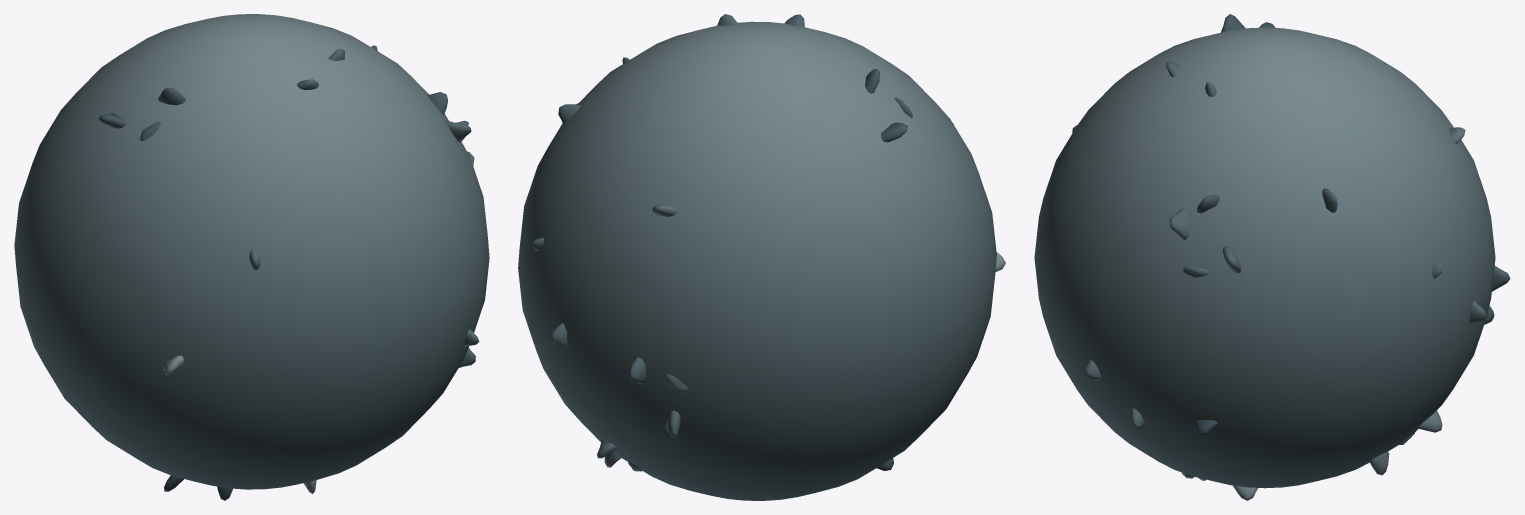
The model's file is Moon1.glb.
3 renders of one model, left to right at view 1: azimuth 30°, elevation 25°; view 2: azimuth 150°, elevation 25°; view 3: azimuth 270°, elevation 25°, orthographic. The views are drawn at different scales.
Visible parts, largest first — view 1: Moon1; view 2: Moon1; view 3: Moon1.
Boxes of the visible parts, box(x1,y1,x2,y2) form: Moon1: box(14, 14, 489, 500); Moon1: box(518, 14, 1005, 500); Moon1: box(1034, 14, 1510, 500).
Size of the model in its own units: 12.46 by 12.66 by 12.87.
1 material, 1 textured.
